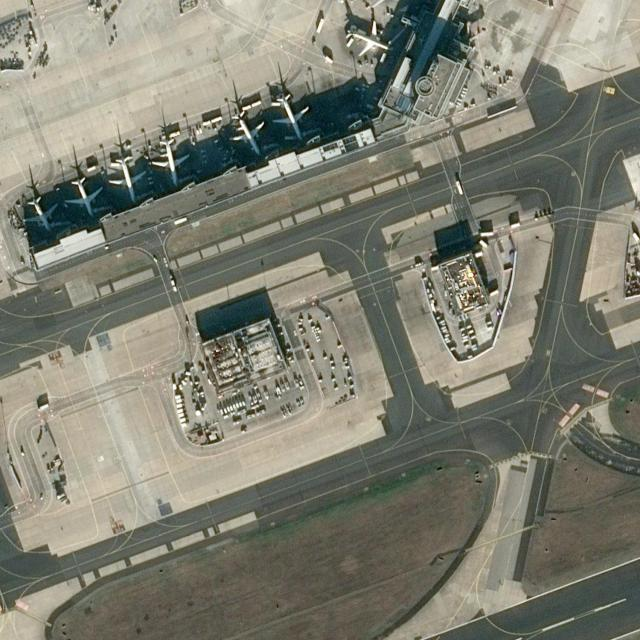Aircraft: (148, 135, 190, 186), (107, 153, 147, 202), (271, 90, 309, 141), (65, 171, 105, 217), (229, 109, 265, 157), (346, 17, 390, 55), (20, 193, 60, 233)
